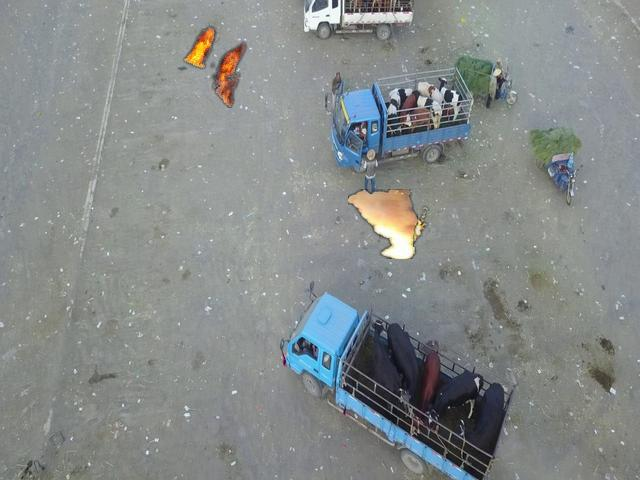fire: (183, 25, 247, 106), (348, 189, 417, 258), (380, 207, 428, 247)
